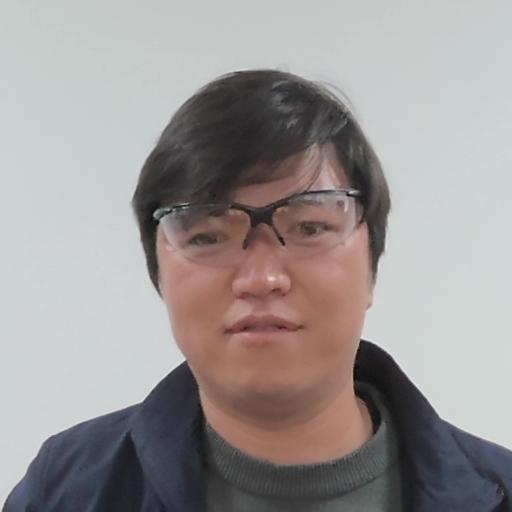glasses: (125, 70, 401, 404)
